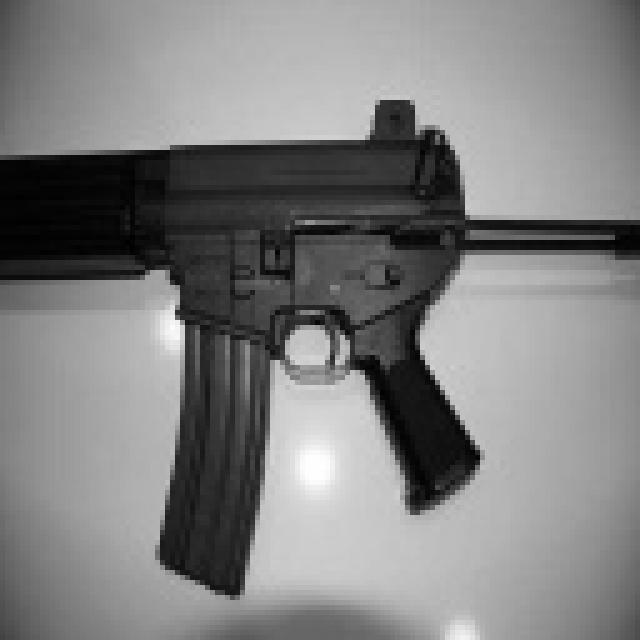Rifle: (0, 84, 640, 634)
